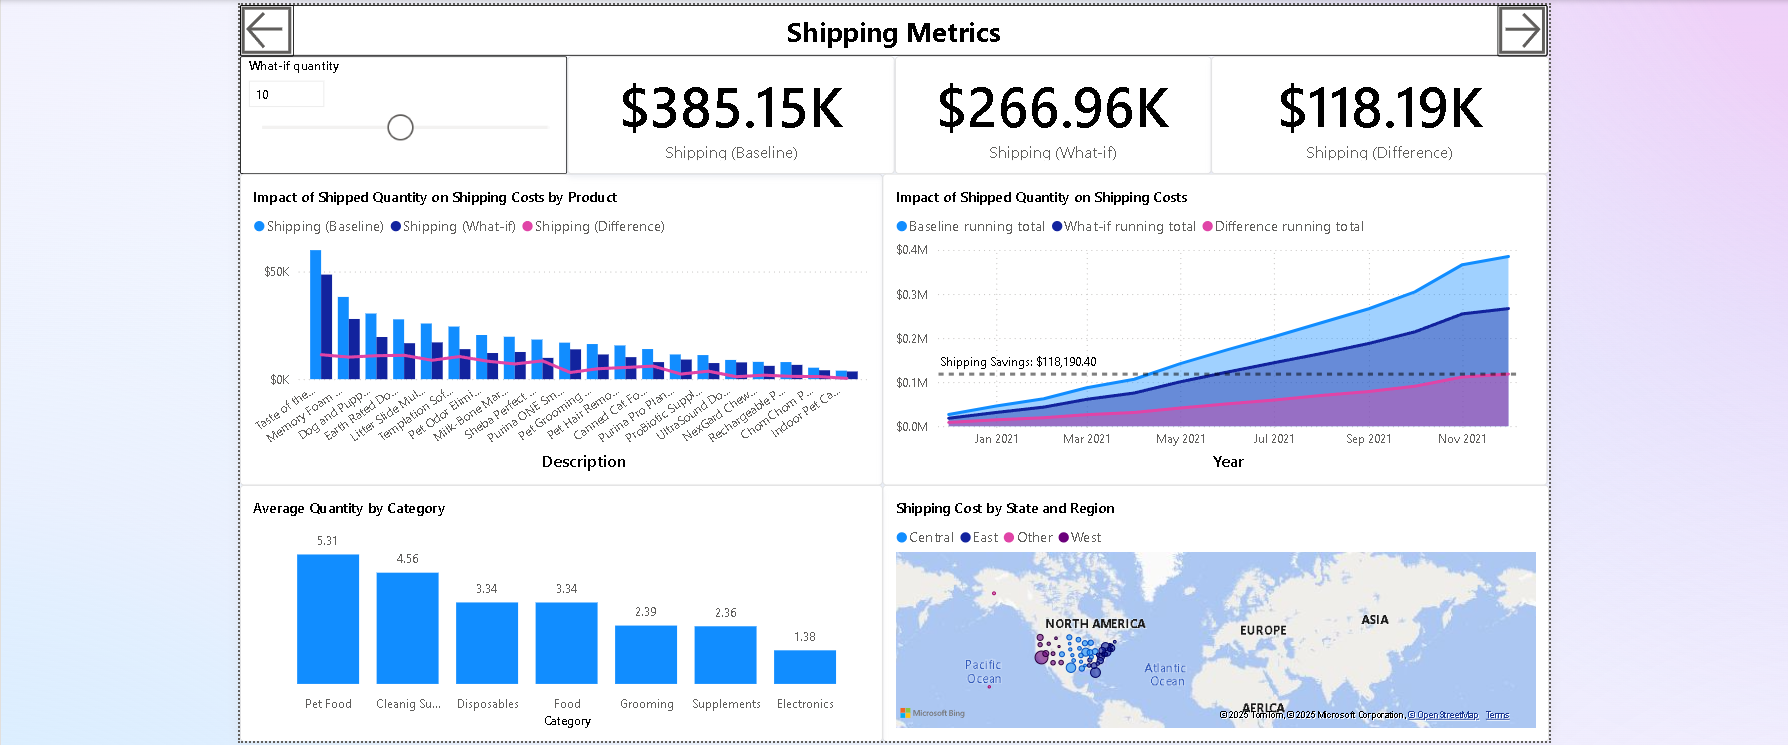

Layout of this report page (visuals, bound fields, positions):
{"tool":"powerbi","page":{"name":"Shipping Metrics","canvas":[1280,720],"ordinal":1},"visuals":[{"type":"slicer","fields":{"Values":["What-if quantity.What-if quantity"]},"box":[0,50.1,320.4,114.9],"z":0},{"type":"lineClusteredColumnComboChart","title":"Impact of Shipped Quantity on Shipping Costs by Product","fields":{"Category":["Sales.Description"],"Y":["Sales.Shipping (Baseline)","Sales.Shipping (What-if)"],"Y2":["Sales.Shipping (Difference)"]},"box":[0,165.1,628.5,304.5],"z":1000},{"type":"card","fields":{"Values":["Sales.Shipping (Baseline)"]},"box":[320.4,50.1,320.4,114.9],"z":2000},{"type":"card","fields":{"Values":["Sales.Shipping (What-if)"]},"box":[640.8,50.1,309.4,114.9],"z":3000},{"type":"card","fields":{"Values":["Sales.Shipping (Difference)"]},"box":[950.1,50.1,330.2,114.9],"z":4000},{"type":"areaChart","title":"Impact of Shipped Quantity on Shipping Costs","fields":{"Y":["Sales.Baseline running total","Sales.What-if running total","Sales.Difference running total"],"Category":["Sales.Transaction Date.Variation.Date Hierarchy.Year","Sales.Transaction Date.Variation.Date Hierarchy.Month"]},"box":[628.5,165.1,650.5,304.5],"z":5000},{"type":"map","title":"Shipping Cost by State and Region","fields":{"Size":["Sales.Shipping (Baseline)"],"Category":["State Mapping.State"],"Series":["State Mapping.Region"]},"box":[628.7,469.1,651.7,250.9],"z":6000},{"type":"textbox","box":[0,0,1279.5,49.7],"z":7000},{"type":"clusteredColumnChart","title":"Average Quantity by Category","fields":{"Y":["Avg(Sales.Quantity)"],"Category":["Products.Category"]},"box":[0,469,629,251],"z":8000},{"type":"actionButton","box":[1230.2,0,48.9,50.1],"z":9000},{"type":"actionButton","box":[0,0,52.6,50.1],"z":10000}]}

Visuals, with their boxes on the page's 1280x720 design canvas (x1, y1, x2, y2). These are canvas units, not pixel positions in the 1788x745 screenshot, which may show the page scaled, cropped or inside an application window:
slicer - What-if quantity.What-if quantity: locate(0, 50, 320, 165)
"Impact of Shipped Quantity on Shipping Costs by Product" lineClusteredColumnComboChart: locate(0, 165, 628, 470)
card - Sales.Shipping (Baseline): locate(320, 50, 641, 165)
card - Sales.Shipping (What-if): locate(641, 50, 950, 165)
card - Sales.Shipping (Difference): locate(950, 50, 1280, 165)
"Impact of Shipped Quantity on Shipping Costs" areaChart: locate(628, 165, 1279, 470)
"Shipping Cost by State and Region" map: locate(629, 469, 1280, 720)
textbox: locate(0, 0, 1280, 50)
"Average Quantity by Category" clusteredColumnChart: locate(0, 469, 629, 720)
actionButton: locate(1230, 0, 1279, 50)
actionButton: locate(0, 0, 53, 50)
